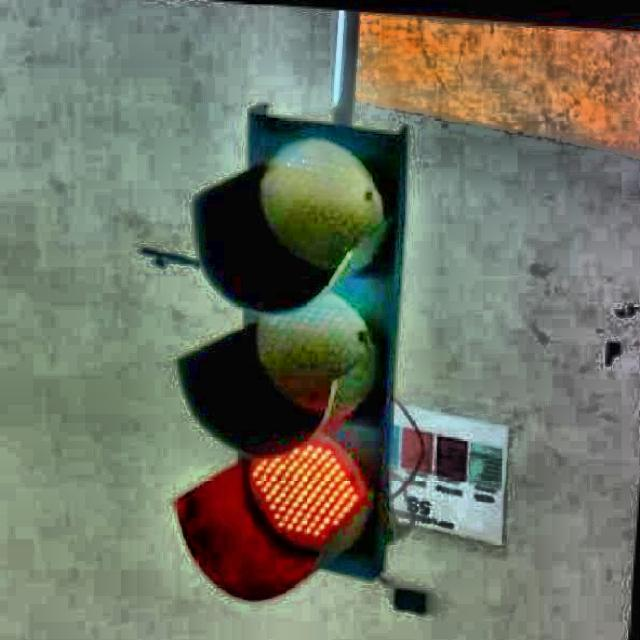red: (203, 110, 390, 586)
